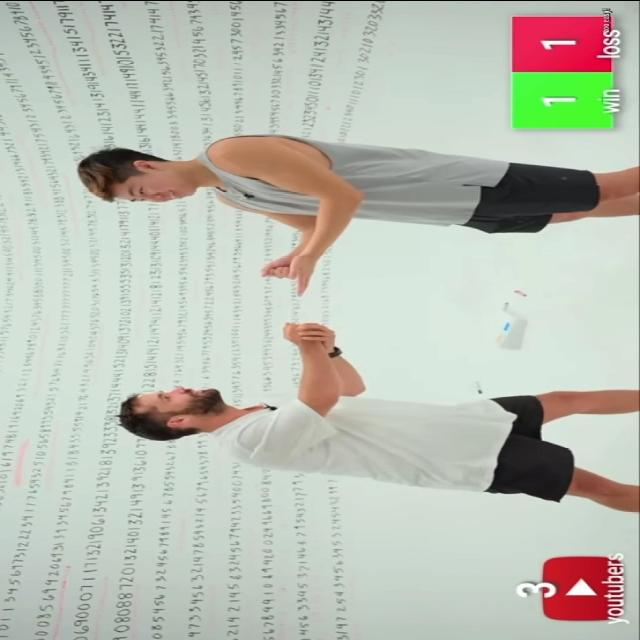Rock: (278, 322, 324, 343), (256, 258, 294, 278)
